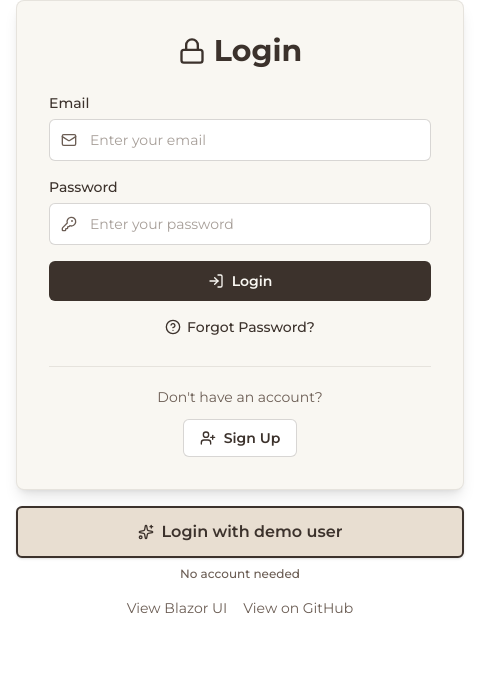
it: Login › falls back to Invalid credentials when the API omits a message
The image size is (481, 684).
Type "user@example.com" into the field labelled "Email". click: (240, 140)
box: [49,119,431,161]
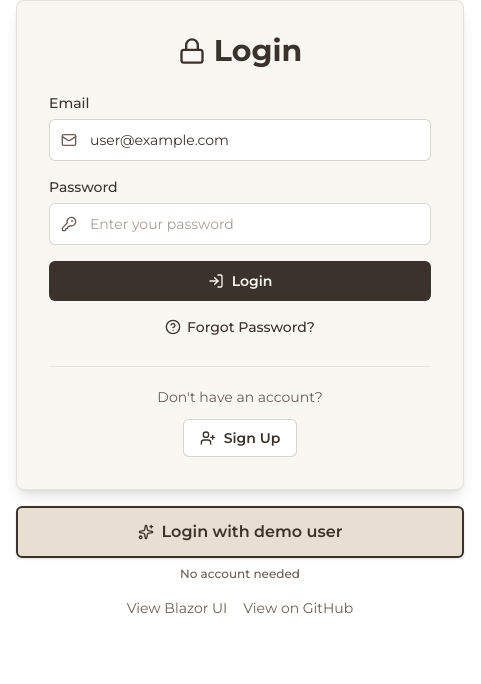
Type "secret1" into the password field labelled "Password". click: (240, 224)
box: [49,203,431,245]
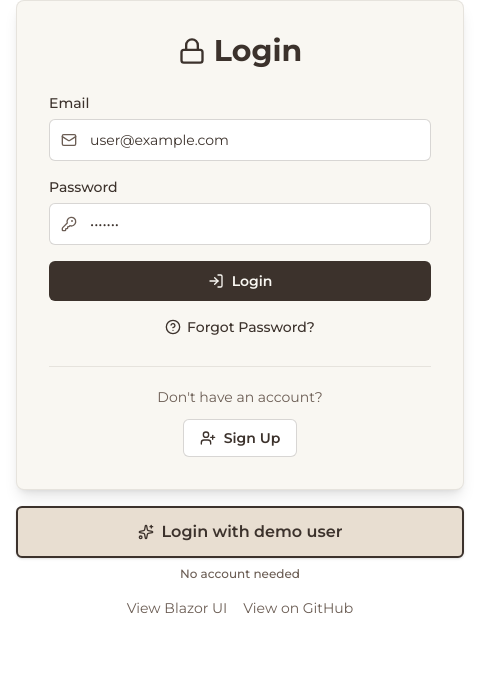
Click the button "Login". click: (240, 281)
box: [49,261,431,301]
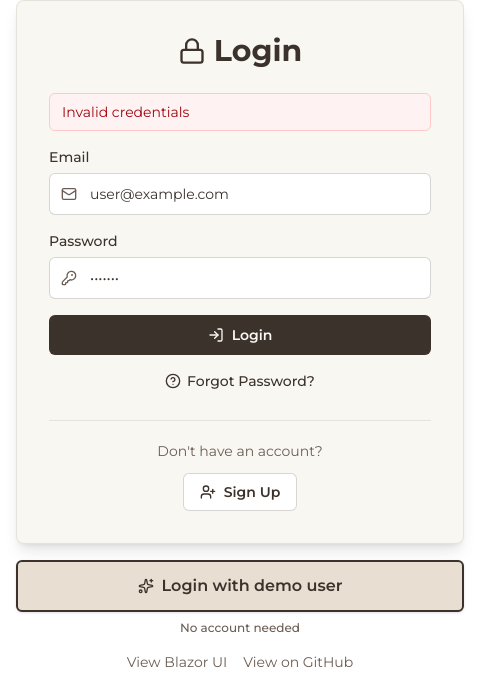
Check: the text with test id "login-form-error" reads "Invalid credentials", box [62,103,189,121]
